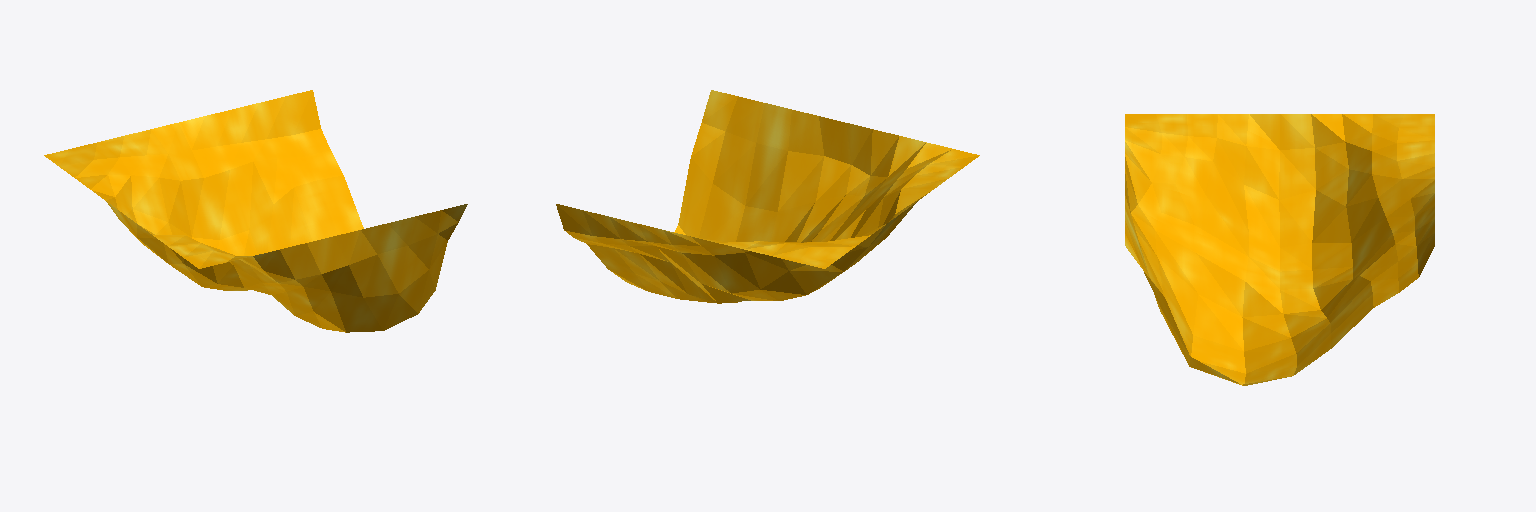
The picture shows the model from 3 angles: view 1: azimuth 30°, elevation 25°; view 2: azimuth 150°, elevation 25°; view 3: azimuth 270°, elevation 25°; orthographic projection.
Parts seen in each view (by area): view 1: polySurface1 trench2; view 2: polySurface1 trench2; view 3: polySurface1 trench2.
Part boxes in pixels (x1,y1,x2,y2): polySurface1 trench2: (44, 90, 467, 332); polySurface1 trench2: (556, 90, 979, 303); polySurface1 trench2: (1125, 114, 1434, 385).
Size of the model in its own units: 1 by 0.5519 by 1.
1 materials, 1 textured.